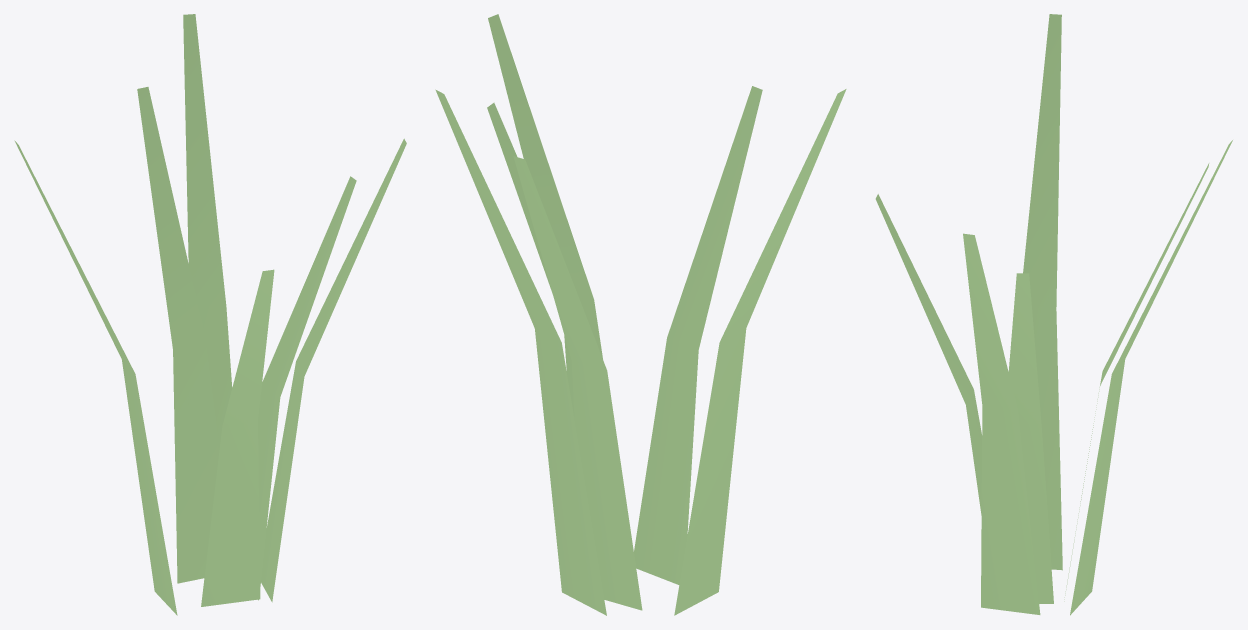
Rendered from prop_flower_wild_a.glb.
The picture shows the model from 3 angles, left to right: view 1: azimuth 30°, elevation 25°; view 2: azimuth 150°, elevation 25°; view 3: azimuth 270°, elevation 25°; orthographic projection. The views are drawn at different scales.
Parts seen in each view (by area): view 1: SM_WildA_LOD0; view 2: SM_WildA_LOD0; view 3: SM_WildA_LOD0.
Part boxes in pixels (<box>): SM_WildA_LOD0: <box>14,14,406,615</box>; SM_WildA_LOD0: <box>435,14,846,615</box>; SM_WildA_LOD0: <box>875,14,1232,615</box>.
Size of what is drawn, in the model's own units: 0.7113 by 0.95 by 0.6335.
